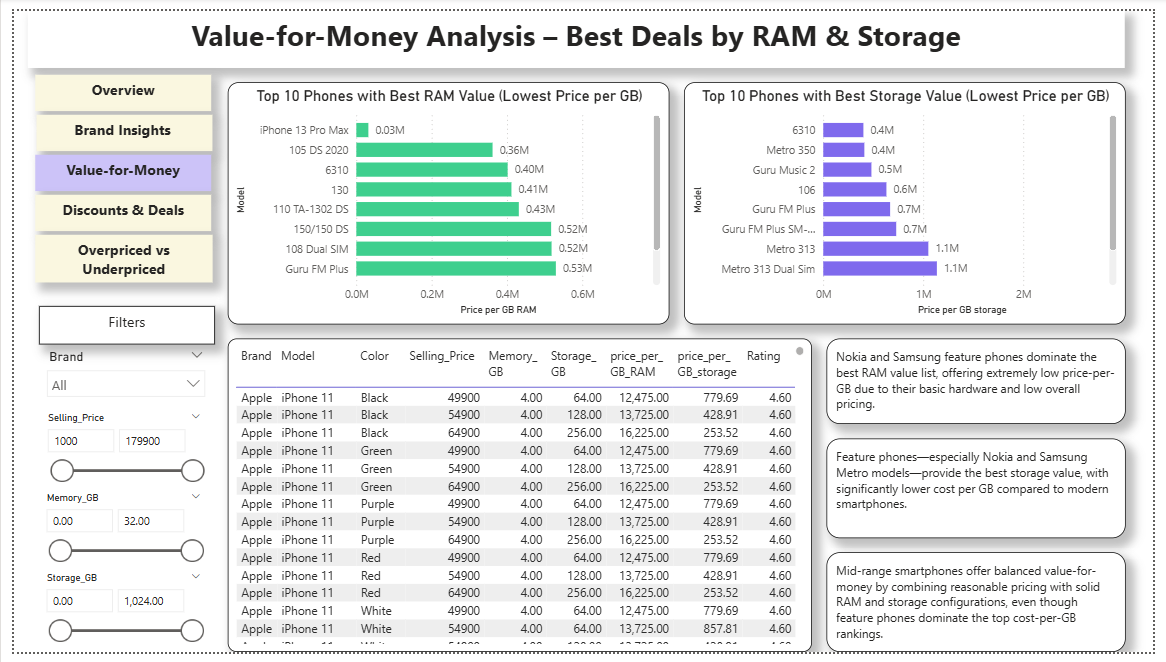

The page's visual inventory and layout, read from the dashboard file:
{"tool":"powerbi","page":{"name":"Value for money","canvas":[1280,720],"ordinal":2},"visuals":[{"type":"textbox","box":[16,0,1232,64],"z":0},{"type":"textbox","box":[23.8,71.5,197.7,40.7],"z":1000},{"type":"textbox","box":[25.2,116.4,197.7,40.7],"z":2000},{"type":"textbox","box":[23.8,161.3,197.7,40.7],"z":3000},{"type":"textbox","box":[23.8,206.1,197.7,40.7],"z":4000},{"type":"textbox","box":[23.8,251,199.1,53.3],"z":5000},{"type":"slicer","fields":{"Values":["flipkart_mobiles_cleaned.Brand"]},"box":[26.6,374.4,197.7,70.1],"z":6000},{"type":"slicer","fields":{"Values":["flipkart_mobiles_cleaned.Memory_GB"]},"box":[23.8,534.3,197.7,89.7],"z":7000},{"type":"slicer","fields":{"Values":["flipkart_mobiles_cleaned.Storage_GB"]},"box":[23.8,624,197.7,88.3],"z":8000},{"type":"slicer","fields":{"Values":["flipkart_mobiles_cleaned.Selling_Price"]},"box":[25.2,444.5,196.3,89.7],"z":9000},{"type":"textbox","box":[28,330.9,197.7,43.5],"z":10000},{"type":"clusteredBarChart","title":"Top 10 Phones with Best RAM Value (Lowest Price per GB)","fields":{"Category":["flipkart_mobiles_cleaned.Model"],"Y":["Avg(flipkart_mobiles_cleaned.price_per_GB_RAM)"]},"box":[240,80,496,272],"z":11000},{"type":"clusteredBarChart","title":"Top 10 Phones with Best Storage Value (Lowest Price per GB)","fields":{"Category":["flipkart_mobiles_cleaned.Model"],"Y":["Avg(flipkart_mobiles_cleaned.price_per_GB_storage)"]},"box":[752,80,496,272],"z":12000},{"type":"tableEx","fields":{"Values":["flipkart_mobiles_cleaned.Brand","flipkart_mobiles_cleaned.Model","flipkart_mobiles_cleaned.Color","flipkart_mobiles_cleaned.Selling_Price","flipkart_mobiles_cleaned.Memory_GB","flipkart_mobiles_cleaned.Storage_GB","flipkart_mobiles_cleaned.price_per_GB_RAM","flipkart_mobiles_cleaned.price_per_GB_storage","flipkart_mobiles_cleaned.Rating"]},"box":[240,368,656,352],"z":13000},{"type":"textbox","box":[912,368,336,96],"z":14000},{"type":"textbox","box":[912,480,336,112],"z":15000},{"type":"textbox","box":[912,608,336,112],"z":16000}]}

Visuals, with their boxes in screenshot pixels (x1, y1, x2, y2), scaled from the page's 1280x720 canvas onto the 1166x662 screenshot:
textbox: left=15, top=0, right=1137, bottom=59
textbox: left=22, top=66, right=202, bottom=103
textbox: left=23, top=107, right=203, bottom=144
textbox: left=22, top=148, right=202, bottom=186
textbox: left=22, top=189, right=202, bottom=227
textbox: left=22, top=231, right=203, bottom=280
slicer - flipkart_mobiles_cleaned.Brand: left=24, top=344, right=204, bottom=409
slicer - flipkart_mobiles_cleaned.Memory_GB: left=22, top=491, right=202, bottom=574
slicer - flipkart_mobiles_cleaned.Storage_GB: left=22, top=574, right=202, bottom=655
slicer - flipkart_mobiles_cleaned.Selling_Price: left=23, top=409, right=202, bottom=491
textbox: left=26, top=304, right=206, bottom=344
"Top 10 Phones with Best RAM Value (Lowest Price per GB)" clusteredBarChart: left=219, top=74, right=670, bottom=324
"Top 10 Phones with Best Storage Value (Lowest Price per GB)" clusteredBarChart: left=685, top=74, right=1137, bottom=324
tableEx - flipkart_mobiles_cleaned.Brand x flipkart_mobiles_cleaned.Model: left=219, top=338, right=816, bottom=661
textbox: left=831, top=338, right=1137, bottom=427
textbox: left=831, top=441, right=1137, bottom=544
textbox: left=831, top=559, right=1137, bottom=661
